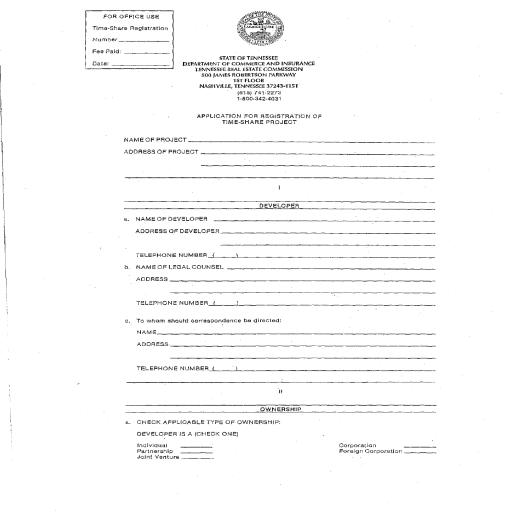Address: (134, 227, 221, 235), (123, 148, 200, 156), (133, 274, 169, 284), (134, 339, 170, 348)
check_box: (136, 430, 242, 438)
date: (92, 57, 110, 68)
free_text: (133, 261, 225, 273), (136, 214, 208, 225), (122, 134, 189, 145), (91, 45, 123, 55), (134, 328, 158, 336)
number: (134, 298, 208, 310), (134, 250, 209, 260), (136, 364, 210, 372), (92, 34, 118, 44)
